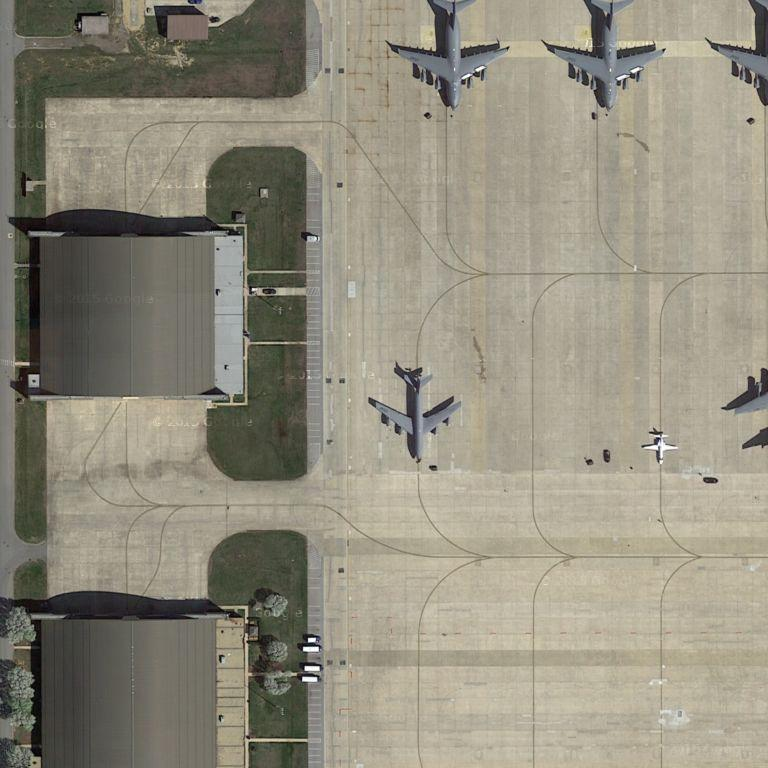C-17: (540, 1, 673, 111), (386, 1, 512, 111)
KC-135: (364, 366, 469, 465)
